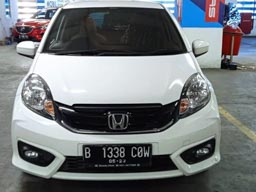plat: (83, 144, 151, 157)
